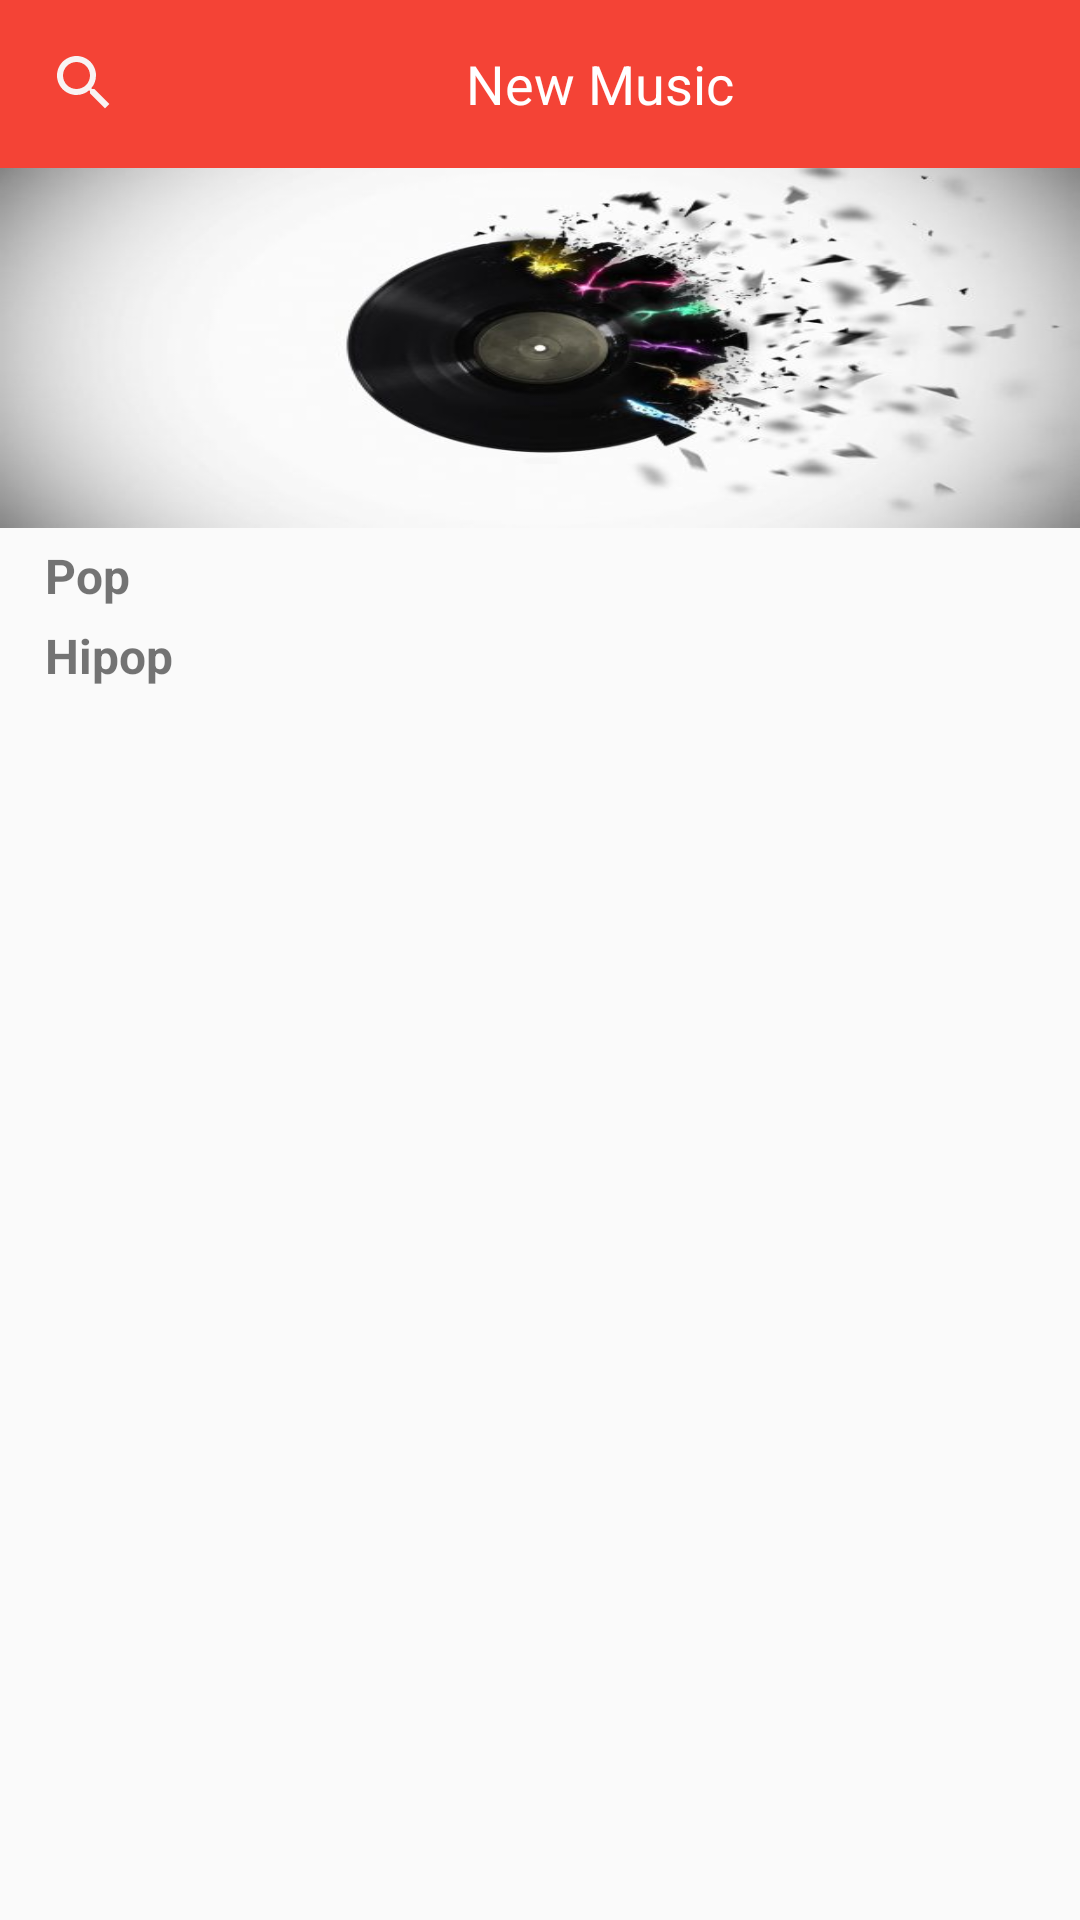

Icons on this 1080w x 1920h Android screen, each with its box as bbox=[x1, y1, x2, y2]:
search: bbox=[57, 56, 109, 108]
